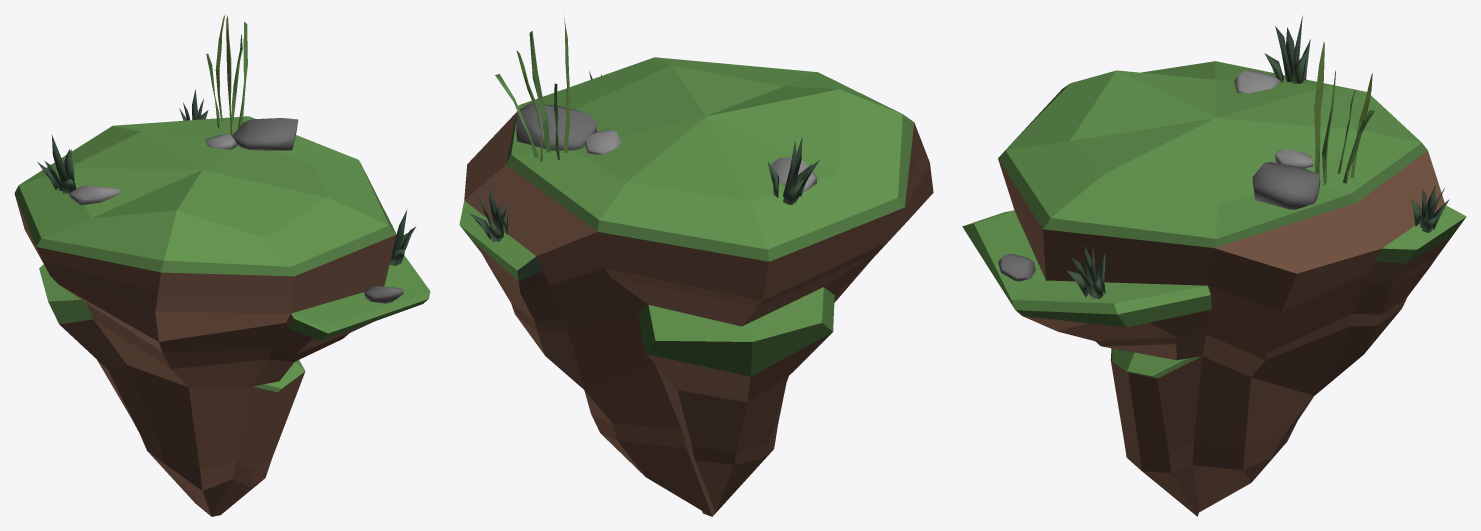
The model's file is Platform_Pirates.glb.
3 renders of one model, left to right at view 1: azimuth 30°, elevation 25°; view 2: azimuth 150°, elevation 25°; view 3: azimuth 270°, elevation 25°, orthographic. The views are drawn at different scales.
Visible parts, largest first — view 1: PiratePlatform_01; view 2: PiratePlatform_01; view 3: PiratePlatform_01.
Boxes of the visible parts, x1,y1,x2,y2 form: PiratePlatform_01: (14,14,430,516); PiratePlatform_01: (459,15,933,516); PiratePlatform_01: (962,16,1466,516).
Size of what is drawn, in the model's own units: 2.22 by 2.84 by 2.54.
1 material, 1 textured.
